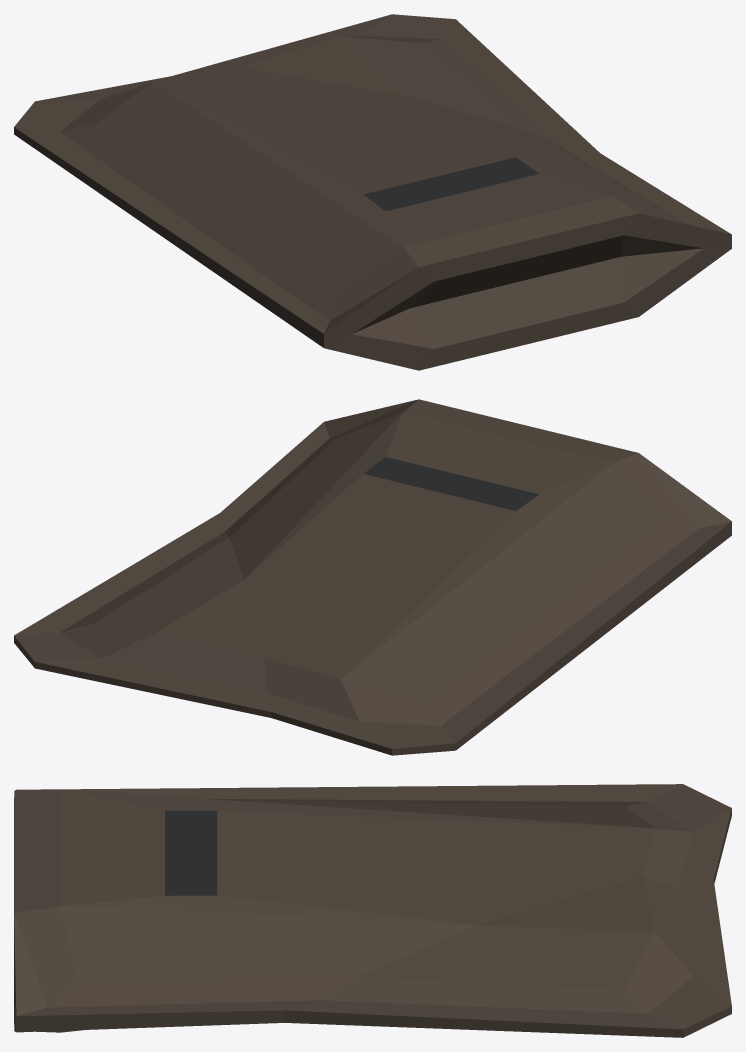
The model's file is SM_Item_Meal_Packet_01.fbx.
The picture shows the model from 3 angles, top to bottom: view 1: azimuth 30°, elevation 25°; view 2: azimuth 150°, elevation 25°; view 3: azimuth 270°, elevation 25°; orthographic projection. The views are drawn at different scales.
Visible parts, largest first — view 1: SM_Item_Meal_Packet_01; view 2: SM_Item_Meal_Packet_01; view 3: SM_Item_Meal_Packet_01.
Boxes of the visible parts, x1=… form: SM_Item_Meal_Packet_01: x1=14, y1=14, x2=731, y2=370; SM_Item_Meal_Packet_01: x1=14, y1=399, x2=731, y2=755; SM_Item_Meal_Packet_01: x1=14, y1=784, x2=731, y2=1037.
Size of the model in its own units: 25.86 by 6.21 by 31.98.
